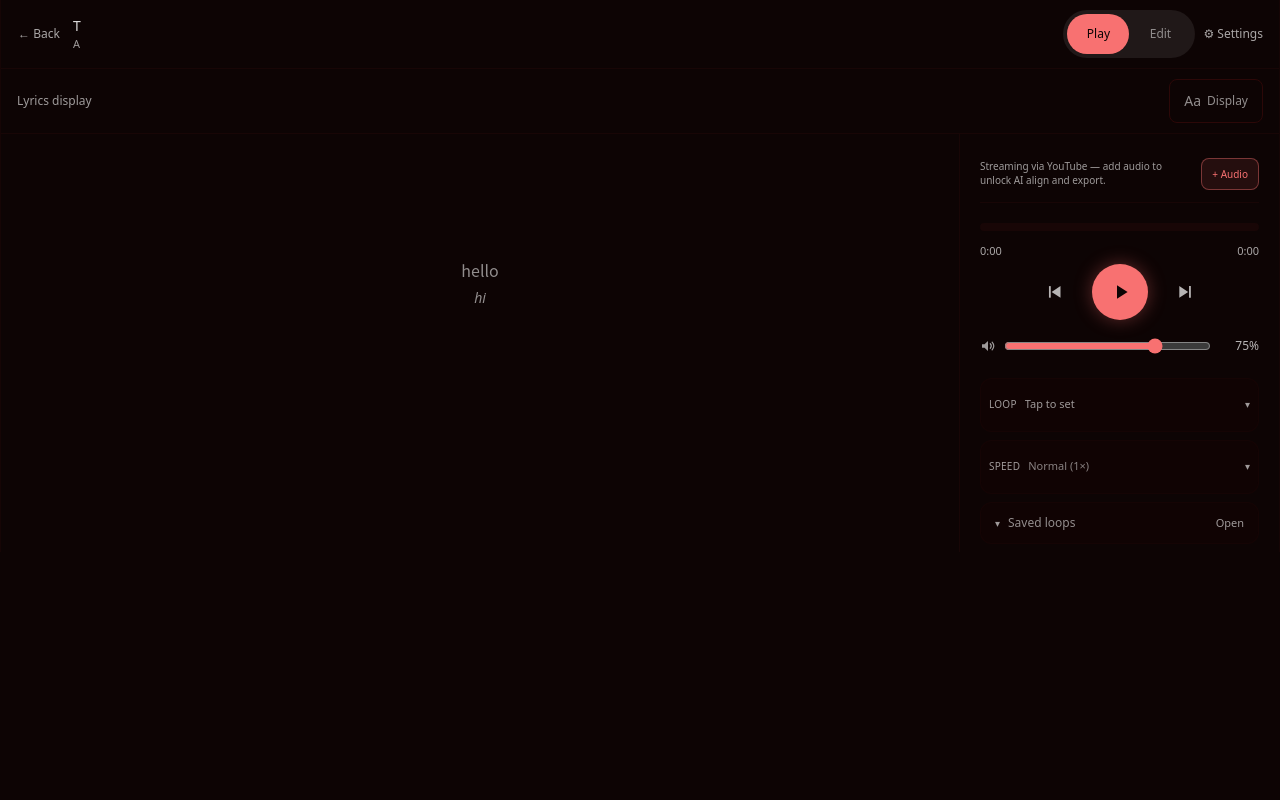
Test: PlayerView speed control › shows the speed slider in the speed section
This screenshot has width=1280, height=800.
Expected: the text "hello" is shown, [461,258,499,282]
Click the button "Speed Normal (1×) ▾": point(1005, 466) [989,448,1250,484]
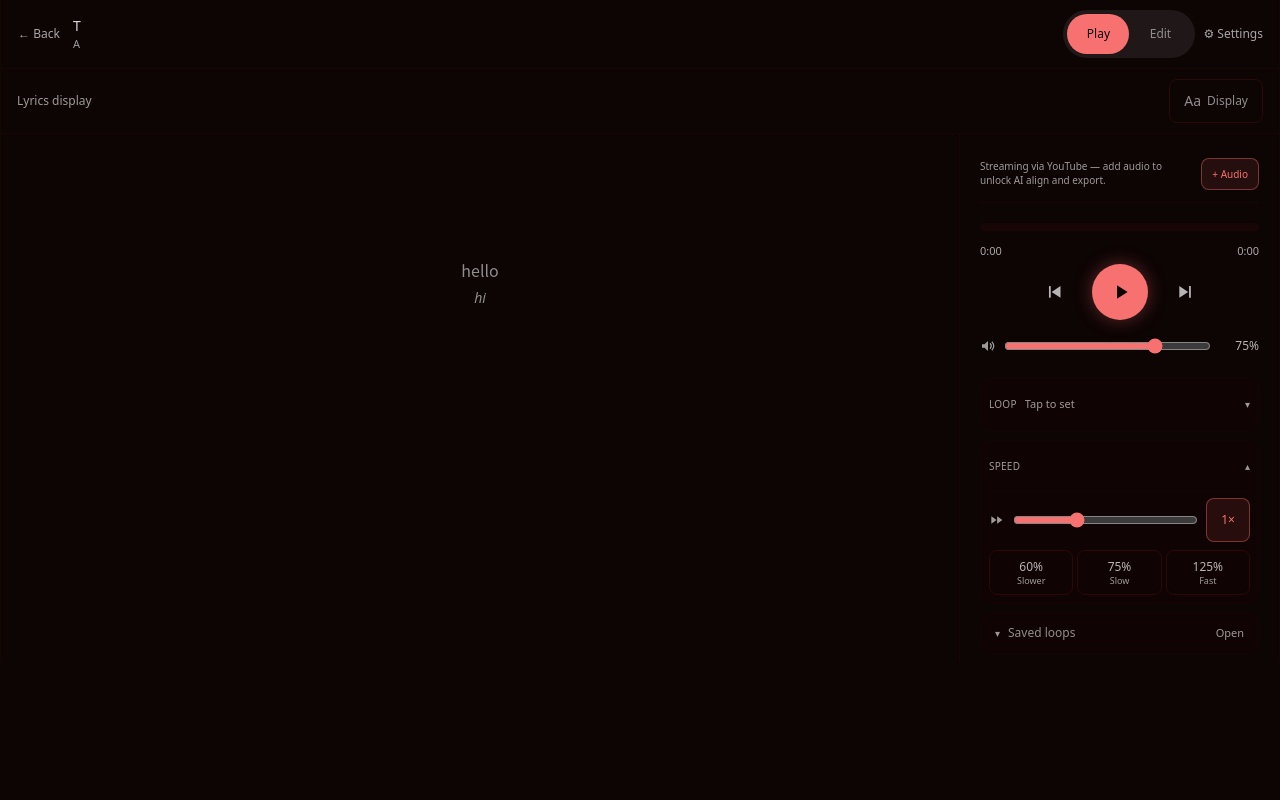
Expected: the slider named "playback speed" is shown, [1013,498,1198,542]
